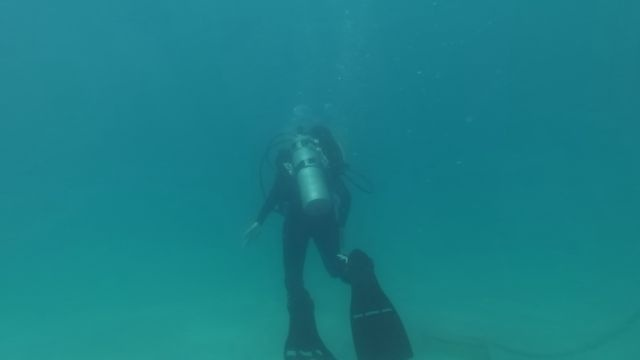Hand: (239, 213, 269, 252)
